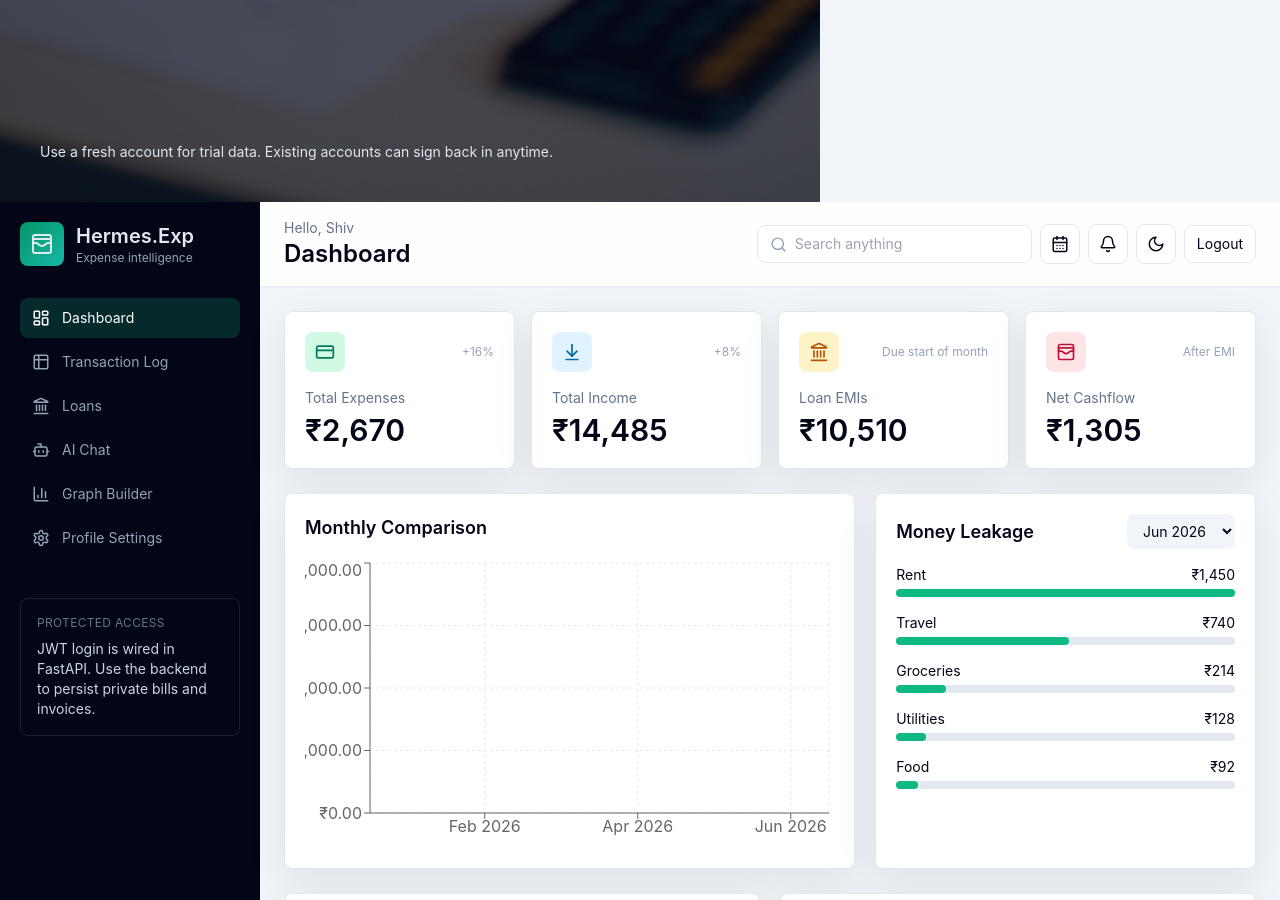
Test: Transaction Log › clears the chat input immediately after sending
(page scrolled)
Click the button "AI Chat" at (130, 450), box x1=20 y1=430 x2=240 y2=470
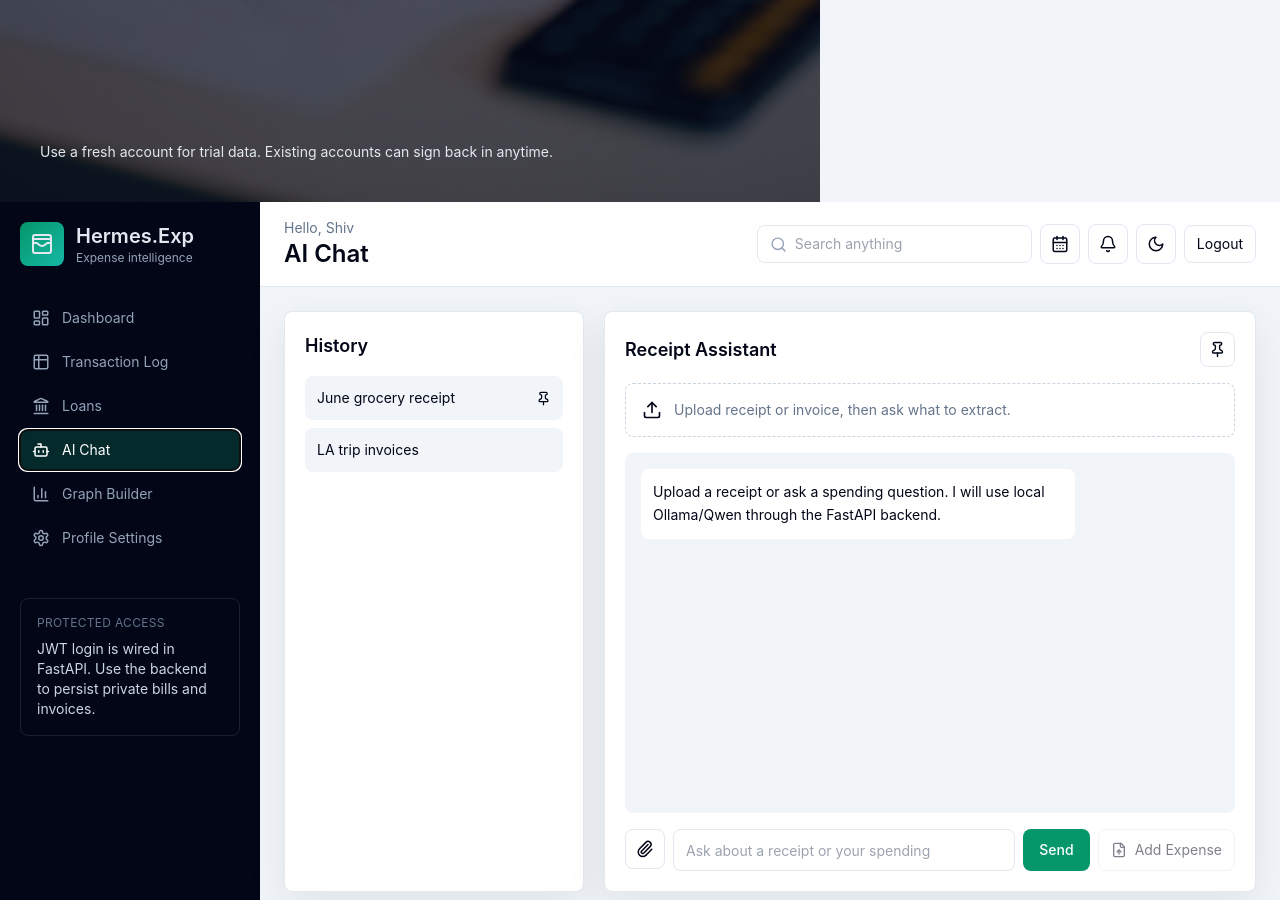
Type "Clear this after send" into the field with placeholder "Ask about a receipt or your spending" at (844, 850), box x1=673 y1=829 x2=1015 y2=871
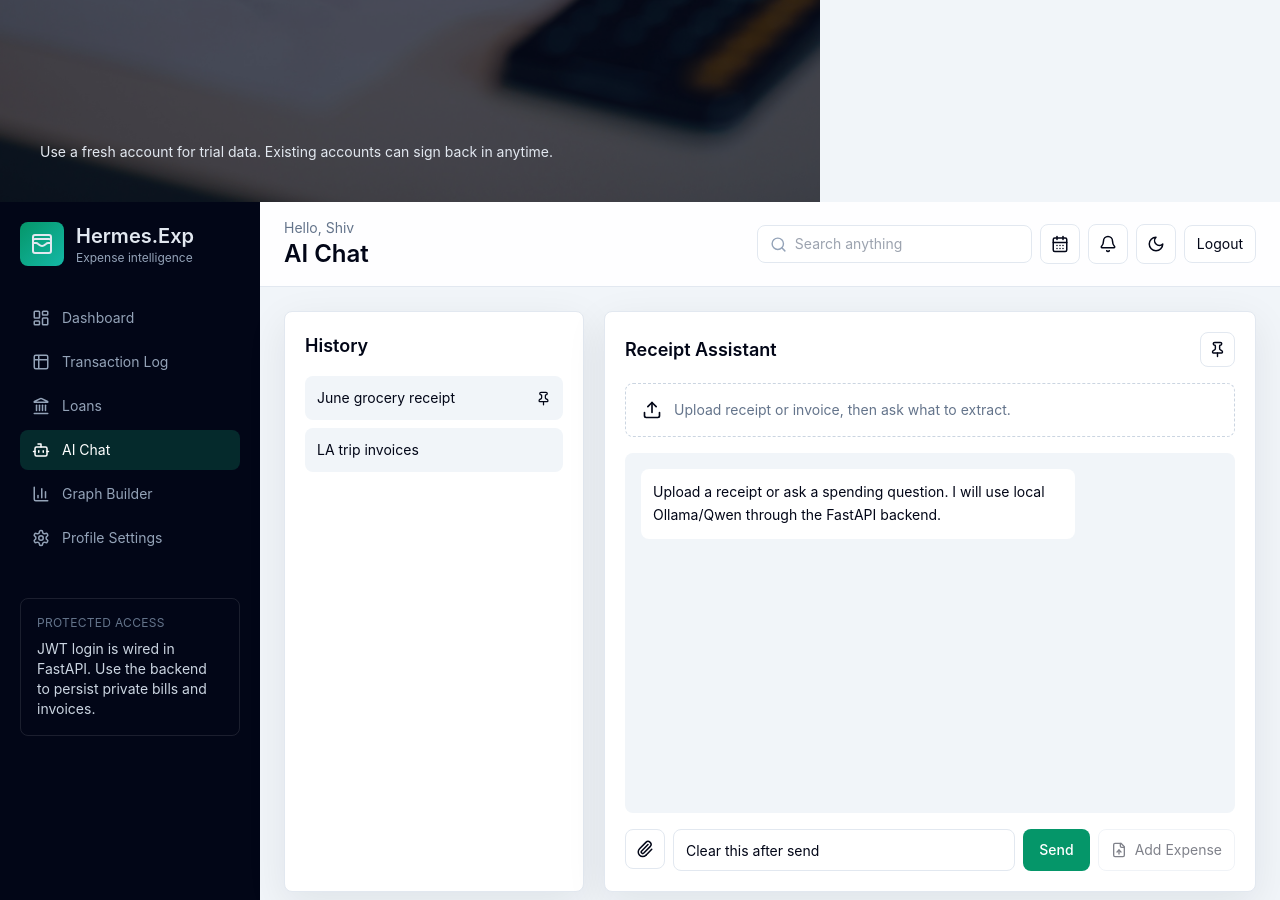
Click the button "Send" at (1056, 850), box x1=1023 y1=829 x2=1090 y2=871
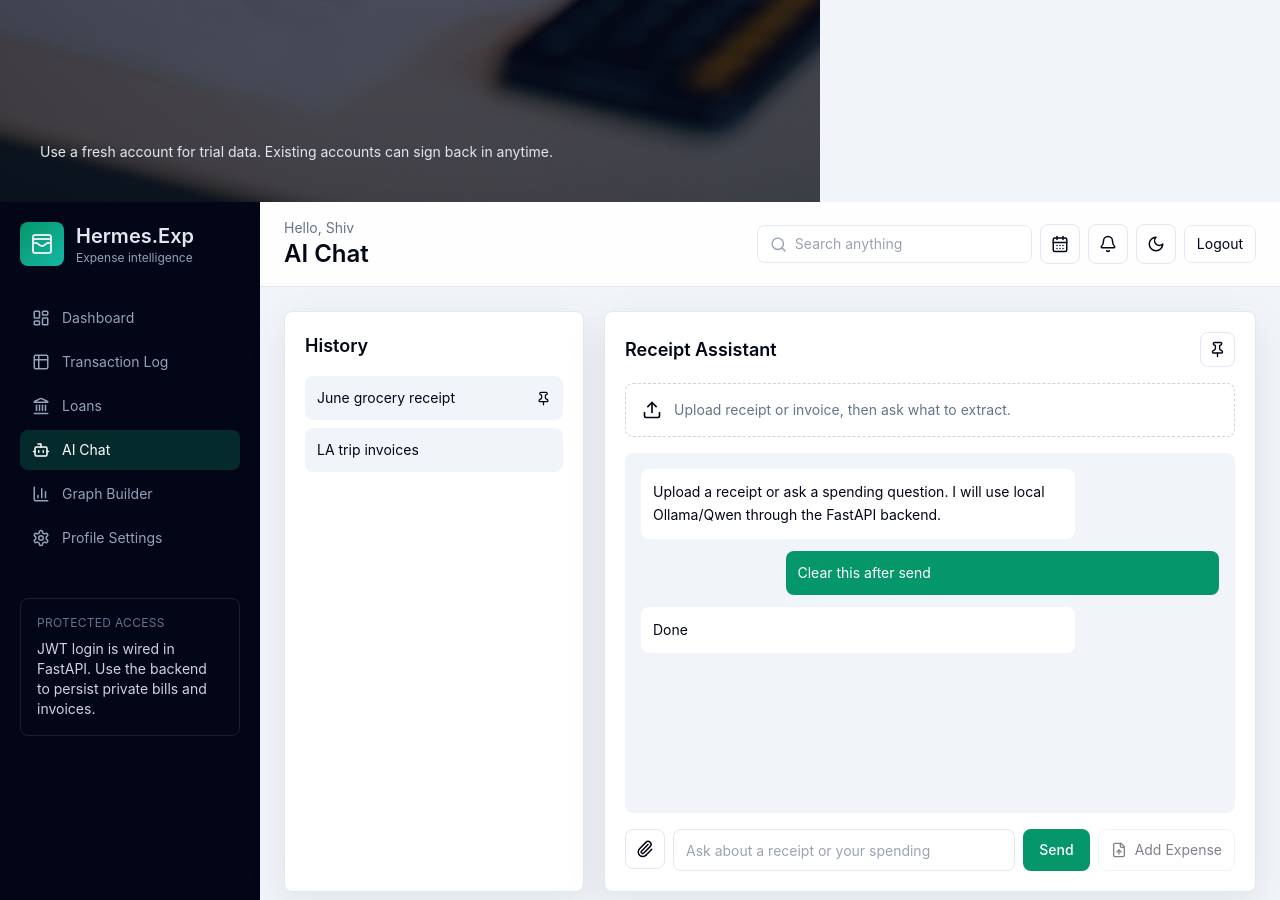
Now the field with placeholder "Ask about a receipt or your spending" is empty, box x1=673 y1=829 x2=1015 y2=871
Now the text "Done" is shown, box x1=653 y1=620 x2=688 y2=638
